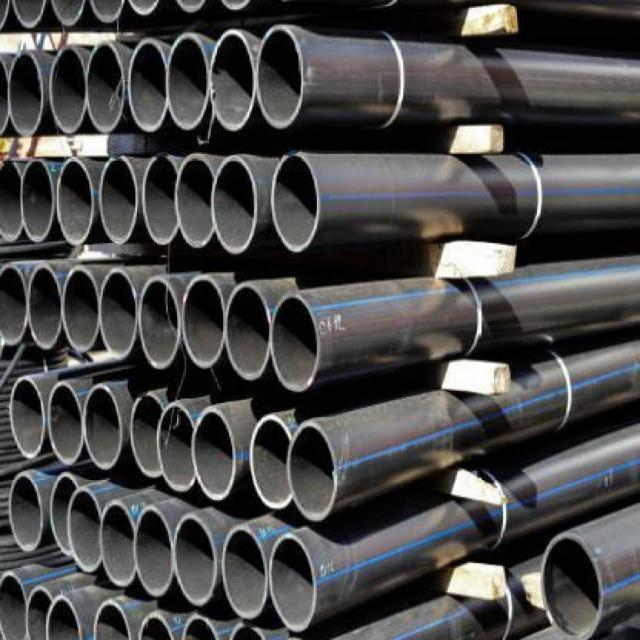pipe: (540, 532, 603, 638), (270, 291, 321, 393), (287, 421, 338, 521), (271, 152, 321, 252), (257, 25, 305, 128), (209, 28, 256, 132), (268, 533, 318, 630), (224, 283, 272, 380), (211, 155, 258, 254), (221, 525, 268, 618), (192, 406, 237, 501), (249, 414, 294, 509), (167, 32, 210, 131), (182, 273, 225, 368), (138, 274, 181, 369), (174, 514, 217, 605), (175, 153, 215, 249), (127, 37, 167, 133), (157, 402, 199, 491), (86, 41, 126, 134), (133, 505, 173, 596), (99, 154, 138, 244), (142, 154, 179, 245), (50, 44, 87, 135), (100, 268, 137, 358), (57, 157, 94, 246), (63, 266, 100, 354), (27, 262, 63, 350), (85, 385, 122, 470), (100, 500, 136, 587), (8, 51, 43, 138), (10, 376, 47, 458), (67, 486, 101, 573), (130, 394, 165, 477), (21, 157, 55, 242), (49, 381, 83, 466), (9, 472, 43, 552), (49, 471, 80, 556), (0, 263, 28, 345), (0, 570, 28, 638), (0, 161, 23, 242), (46, 594, 83, 639), (25, 584, 55, 639), (94, 598, 131, 639), (10, 0, 49, 29), (140, 611, 177, 640), (182, 613, 216, 640), (51, 0, 87, 25), (224, 621, 266, 640), (92, 0, 126, 20), (125, 0, 159, 15)
